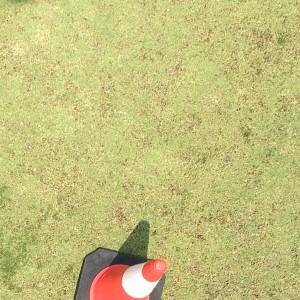traffic cone: (74, 247, 167, 300)
